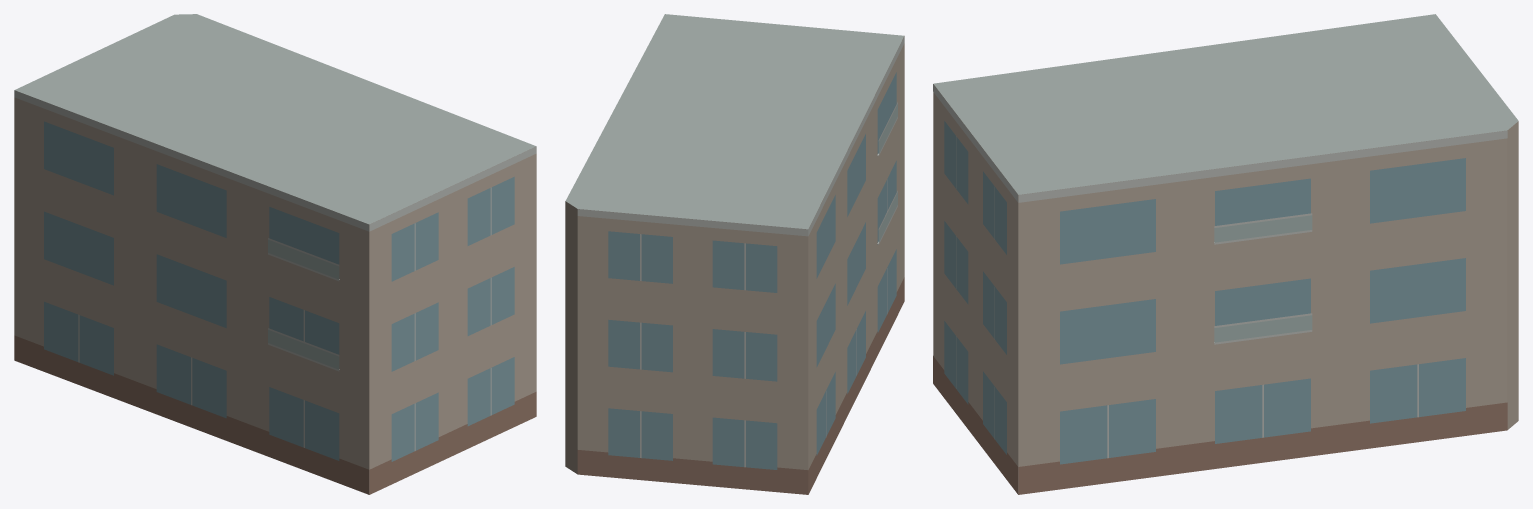
The model's file is survey-upis-32921887.glb.
3 renders of one model, left to right at view 1: azimuth 30°, elevation 25°; view 2: azimuth 150°, elevation 25°; view 3: azimuth 270°, elevation 25°, orthographic. The views are drawn at different scales.
Parts seen in each view (by area): view 1: survey-upis-32921887.tmp; view 2: survey-upis-32921887.tmp; view 3: survey-upis-32921887.tmp.
Part boxes in pixels (<box>): survey-upis-32921887.tmp: <box>14,14,536,494</box>; survey-upis-32921887.tmp: <box>565,14,904,494</box>; survey-upis-32921887.tmp: <box>933,14,1518,494</box>.
Bounding box in the file's own units: 11.84 × 9.15 × 16.2.
